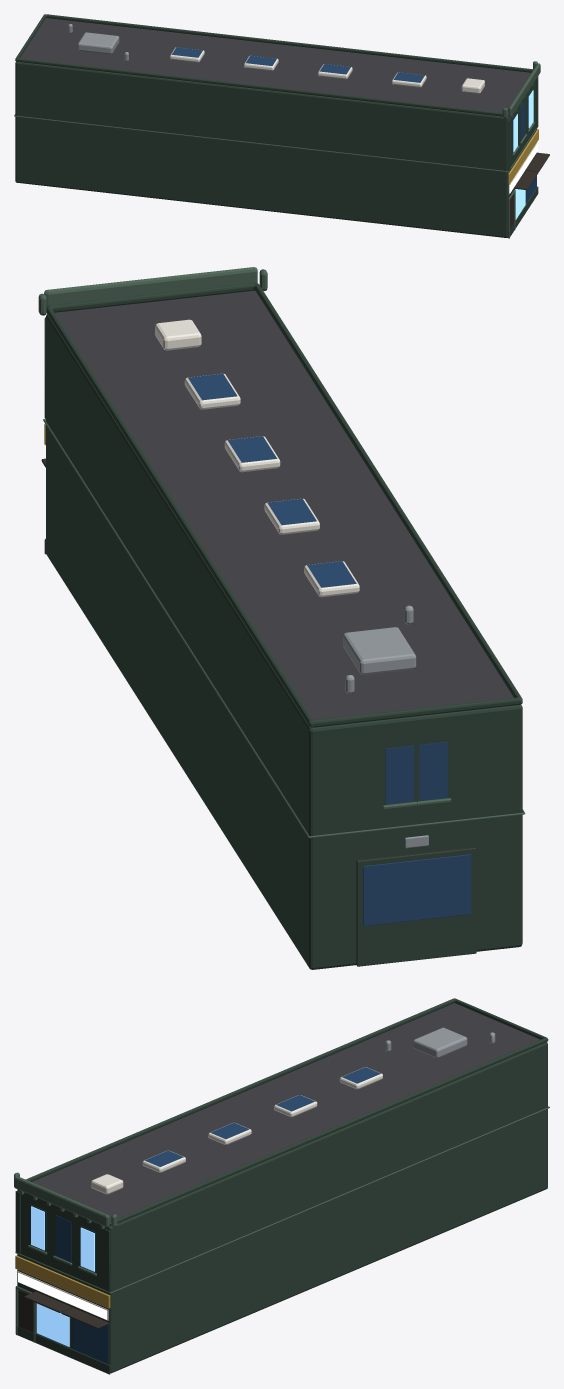
Rendered from mid.glb.
3 views of the same model, one above another, from view 1: azimuth 30°, elevation 25°; view 2: azimuth 150°, elevation 25°; view 3: azimuth 270°, elevation 25° (orthographic). The views are drawn at different scales.
Parts seen in each view (by area): view 1: body, grp_Toy_verdigris, grp_Toy_mint, grp_Toy_glass_Toy_trim, grp_Toy_steel, grp_Toy_ink, grp_Toy_glass_Glow, grp_Toy_glass, sign, grp_Toy_trim; view 2: body, grp_Toy_verdigris, grp_Toy_glass, grp_Toy_mint, grp_Toy_glass_Toy_trim, grp_Toy_steel, grp_Toy_trim; view 3: body, grp_Toy_verdigris, grp_Toy_mint, grp_Toy_glass_Toy_trim, grp_Toy_glass, grp_Toy_glass_Glow, grp_Toy_ink, sign, grp_Toy_steel, transom_glow, grp_Toy_trim.
Part boxes in pixels (box(x1,y1,x2,y2)): body: box(15, 18, 536, 237); grp_Toy_verdigris: box(15, 14, 538, 238); grp_Toy_mint: box(14, 61, 540, 238); grp_Toy_glass_Toy_trim: box(170, 47, 426, 87); grp_Toy_steel: box(68, 24, 128, 61); grp_Toy_ink: box(508, 152, 549, 237); grp_Toy_glass_Glow: box(513, 90, 533, 219); grp_Toy_glass: box(512, 89, 536, 203); sign: box(508, 129, 538, 184); grp_Toy_trim: box(461, 78, 537, 193); body: box(46, 291, 522, 969); grp_Toy_verdigris: box(44, 283, 522, 966); grp_Toy_glass: box(363, 742, 471, 926); grp_Toy_mint: box(38, 267, 525, 838); grp_Toy_glass_Toy_trim: box(184, 373, 359, 597); grp_Toy_steel: box(343, 605, 428, 848); grp_Toy_trim: box(155, 319, 201, 350); body: box(17, 1003, 547, 1373); grp_Toy_verdigris: box(15, 998, 548, 1374); grp_Toy_mint: box(14, 1106, 549, 1342); grp_Toy_glass_Toy_trim: box(142, 1067, 382, 1172); grp_Toy_glass: box(30, 1204, 108, 1363); grp_Toy_glass_Glow: box(31, 1206, 94, 1346); grp_Toy_ink: box(18, 1289, 108, 1332); sign: box(15, 1255, 110, 1308); grp_Toy_steel: box(385, 1027, 495, 1058); transom_glow: box(18, 1272, 107, 1319); grp_Toy_trim: box(18, 1174, 123, 1320).
Size of the model in its own units: 26.16 by 8.45 by 25.72.
